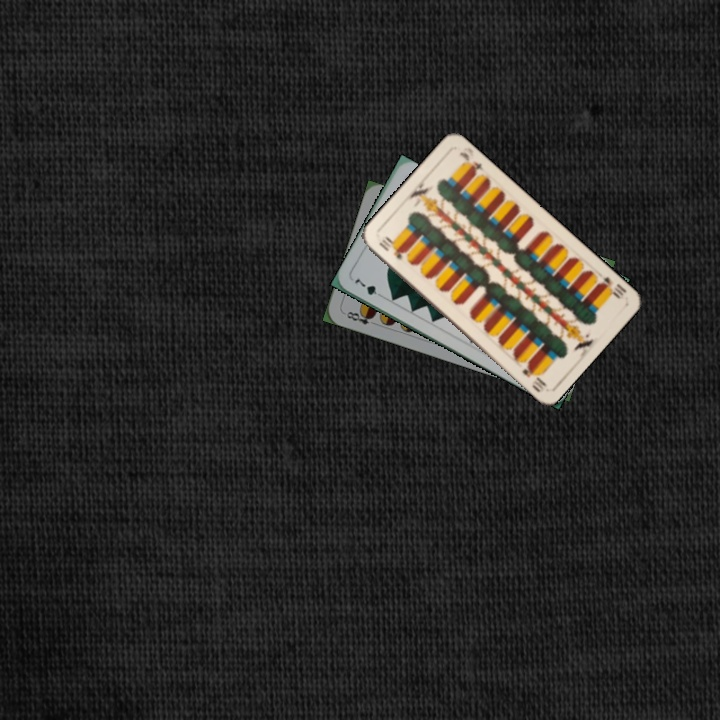E10: (594, 272, 629, 302), (375, 234, 405, 263)
E8: (340, 307, 379, 328)
G7: (350, 274, 387, 301)
